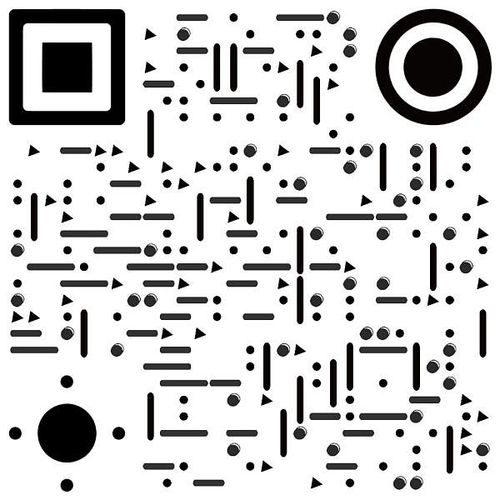QRCode: (1, 3, 498, 500)
